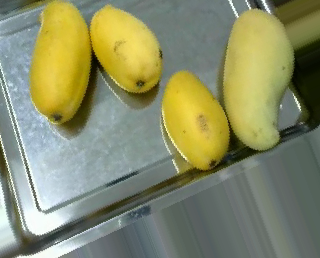Mango: (223, 8, 294, 149), (30, 1, 91, 122), (159, 70, 227, 171), (89, 6, 162, 93)
